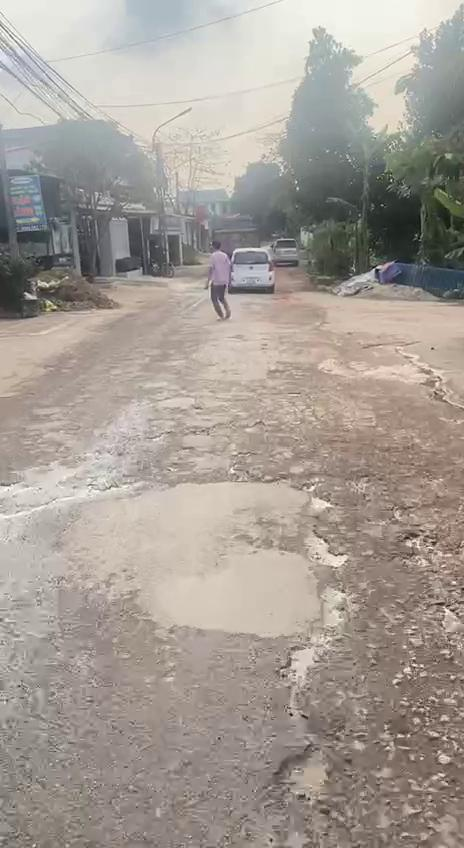pothole: (262, 743, 358, 832), (278, 589, 353, 698), (399, 524, 464, 636), (293, 478, 350, 572), (225, 448, 267, 486)
